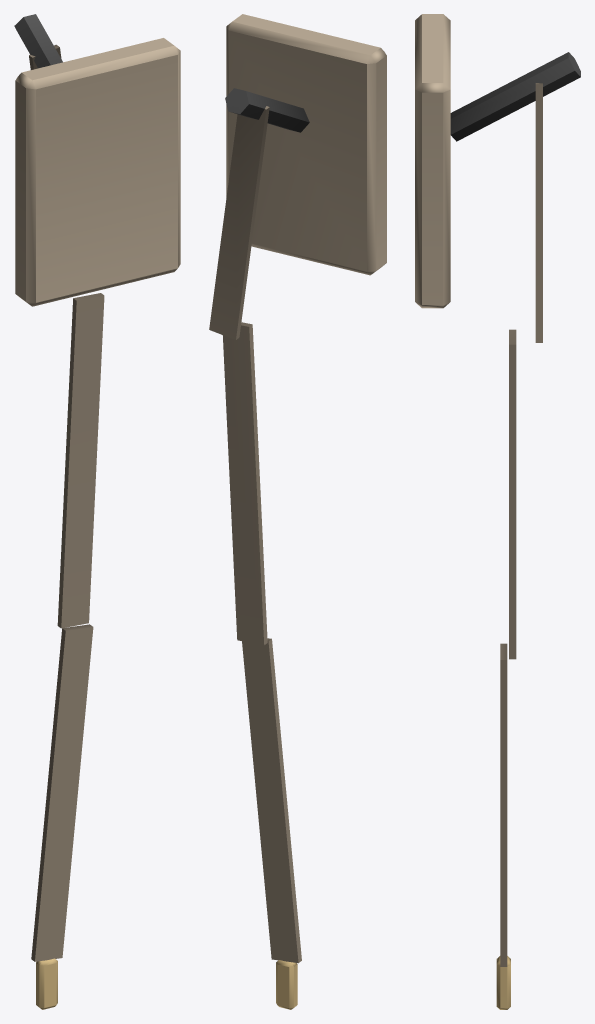
File: lead_hook.glb
3 views of the same model, side by side, from view 1: azimuth 30°, elevation 25°; view 2: azimuth 150°, elevation 25°; view 3: azimuth 270°, elevation 25° (orthographic). The views are drawn at different scales.
Visible parts, largest first — view 1: static; view 2: static; view 3: static.
Part boxes in pixels (x1,y1,x2,y2): static: (14, 14, 180, 1009); static: (209, 14, 386, 1009); static: (415, 14, 580, 1009).
Bounding box in the file's own units: 0.1 × 0.6 × 0.0934.
